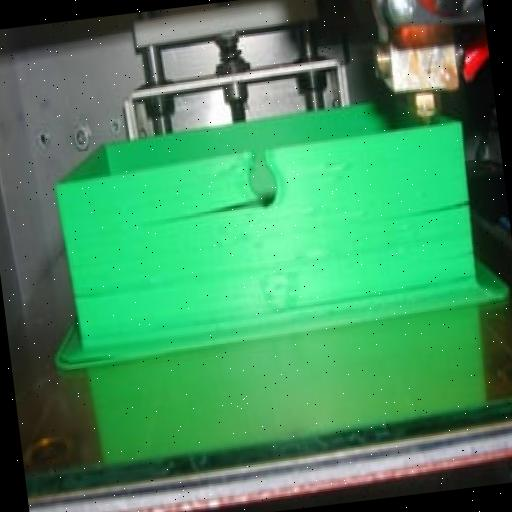cracks: (142, 184, 272, 244), (368, 188, 480, 241)
